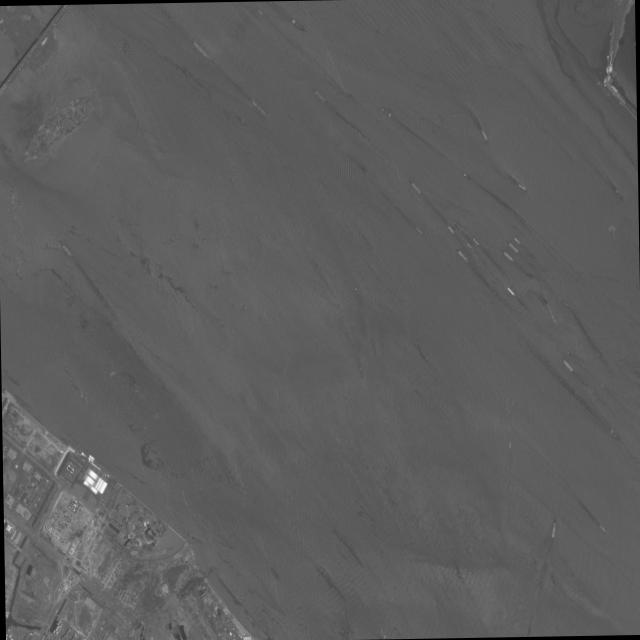ship: (188, 36, 211, 61), (248, 96, 269, 119), (543, 298, 559, 328), (290, 17, 309, 35), (608, 427, 625, 446), (455, 247, 469, 264), (59, 241, 73, 258), (408, 179, 422, 195), (312, 88, 326, 104), (506, 239, 520, 255), (560, 356, 574, 372), (501, 248, 515, 263), (614, 188, 625, 203), (470, 235, 482, 248), (464, 239, 475, 253), (479, 127, 489, 142), (511, 235, 523, 247), (597, 522, 608, 535), (505, 286, 516, 298), (550, 520, 557, 538), (380, 106, 391, 117), (256, 6, 266, 18), (414, 225, 424, 236), (560, 298, 570, 309), (516, 182, 528, 191), (359, 164, 368, 175), (452, 221, 461, 232), (447, 225, 456, 236), (352, 284, 360, 296), (462, 172, 472, 181), (79, 450, 87, 459), (87, 453, 95, 461), (86, 456, 94, 463), (508, 440, 512, 452), (359, 367, 363, 377)
